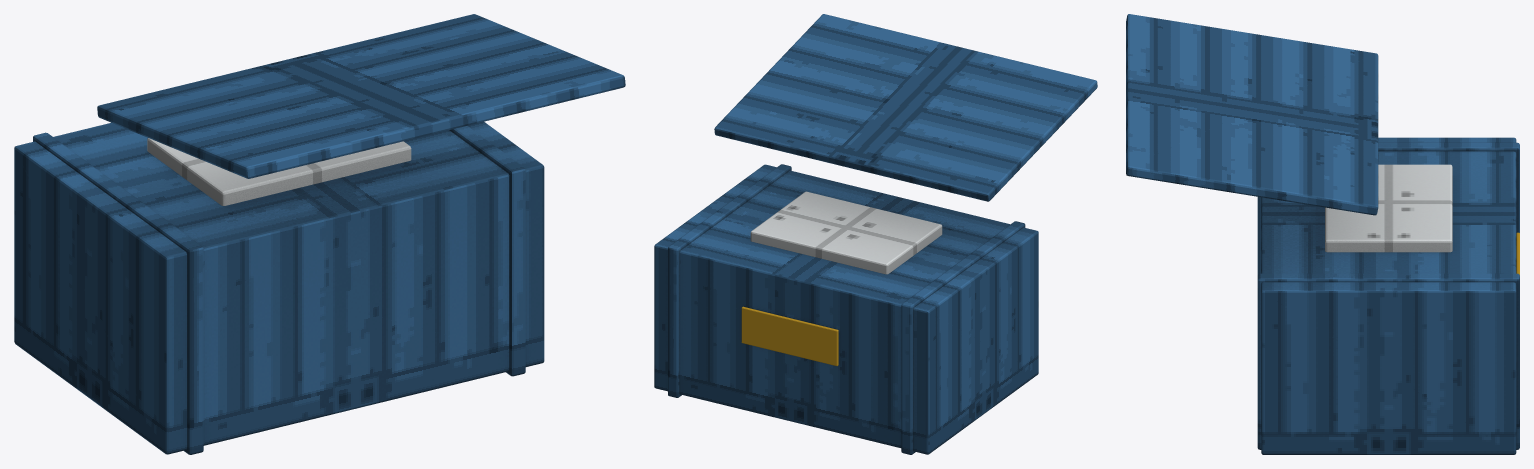
The model's file is base_crate_large_open.glb.
The picture shows the model from 3 angles, left to right: view 1: azimuth 30°, elevation 25°; view 2: azimuth 150°, elevation 25°; view 3: azimuth 270°, elevation 25°; orthographic projection. The views are drawn at different scales.
Visible parts, largest first — view 1: base_crate_large_open.001; view 2: base_crate_large_open.001; view 3: base_crate_large_open.001.
Part boxes in pixels (left/top/right/bottom): base_crate_large_open.001: left=14, top=14, right=625, bottom=454; base_crate_large_open.001: left=654, top=14, right=1097, bottom=454; base_crate_large_open.001: left=1126, top=14, right=1519, bottom=454.
Bounding box in the file's own units: 2 × 1.77 × 2.16.
5 materials, 5 textured.
